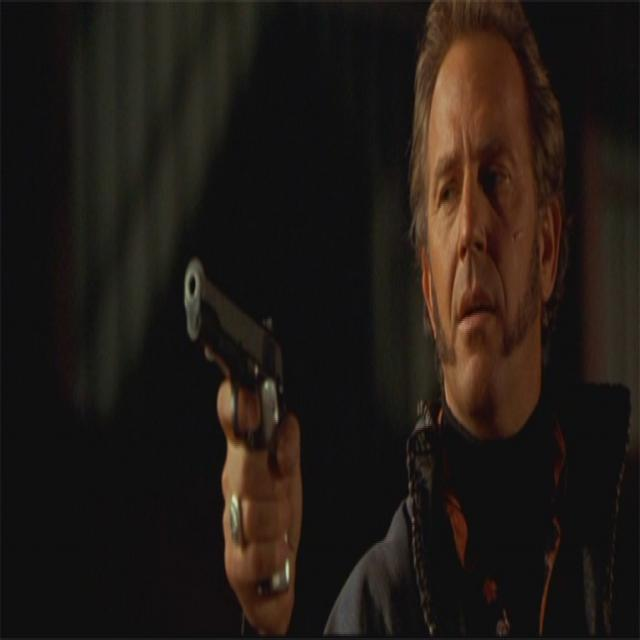gun-knife-thesis - v11 Yolov5 augmented: (187, 267, 288, 541)
